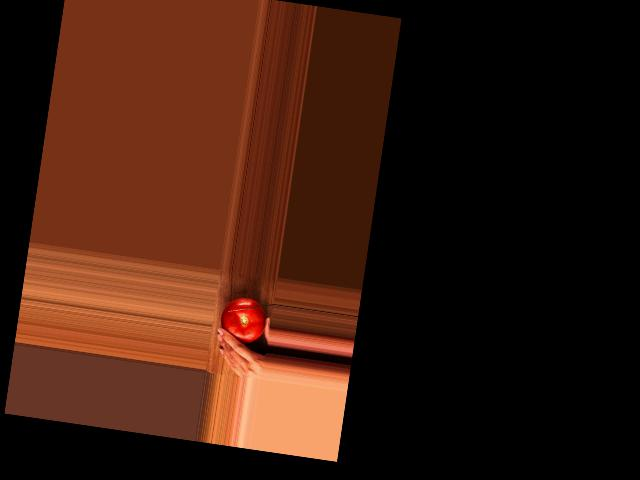tomato: (218, 295, 268, 346)
